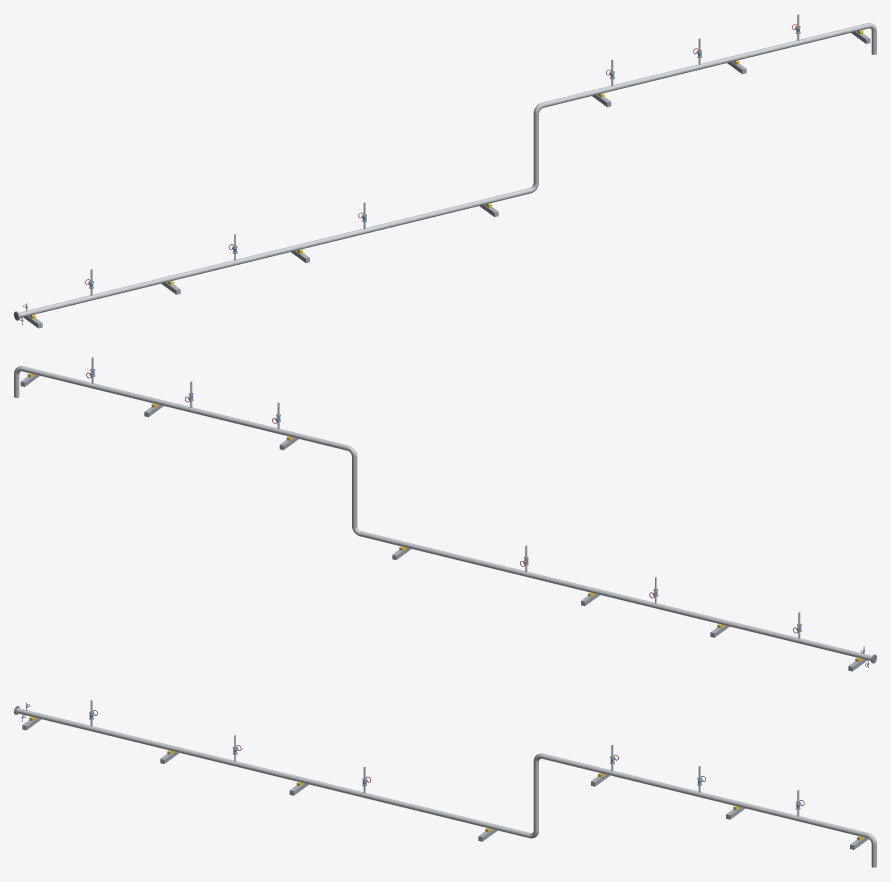
File: CWS-00011.glb
The picture shows the model from 3 angles, top to bottom: view 1: azimuth 30°, elevation 25°; view 2: azimuth 150°, elevation 25°; view 3: azimuth 330°, elevation 25°; orthographic projection.
Parts seen in each view (by area): view 1: pipe, steel; view 2: pipe, steel; view 3: pipe, steel.
Part boxes in pixels (bbox=[...]): pipe: bbox=[19, 14, 876, 324]; steel: bbox=[23, 27, 870, 328]; pipe: bbox=[14, 357, 871, 667]; steel: bbox=[20, 374, 867, 671]; pipe: bbox=[16, 700, 876, 867]; steel: bbox=[22, 705, 868, 849].
Bounding box in the file's own units: 30.56 × 4.09 × 1.
